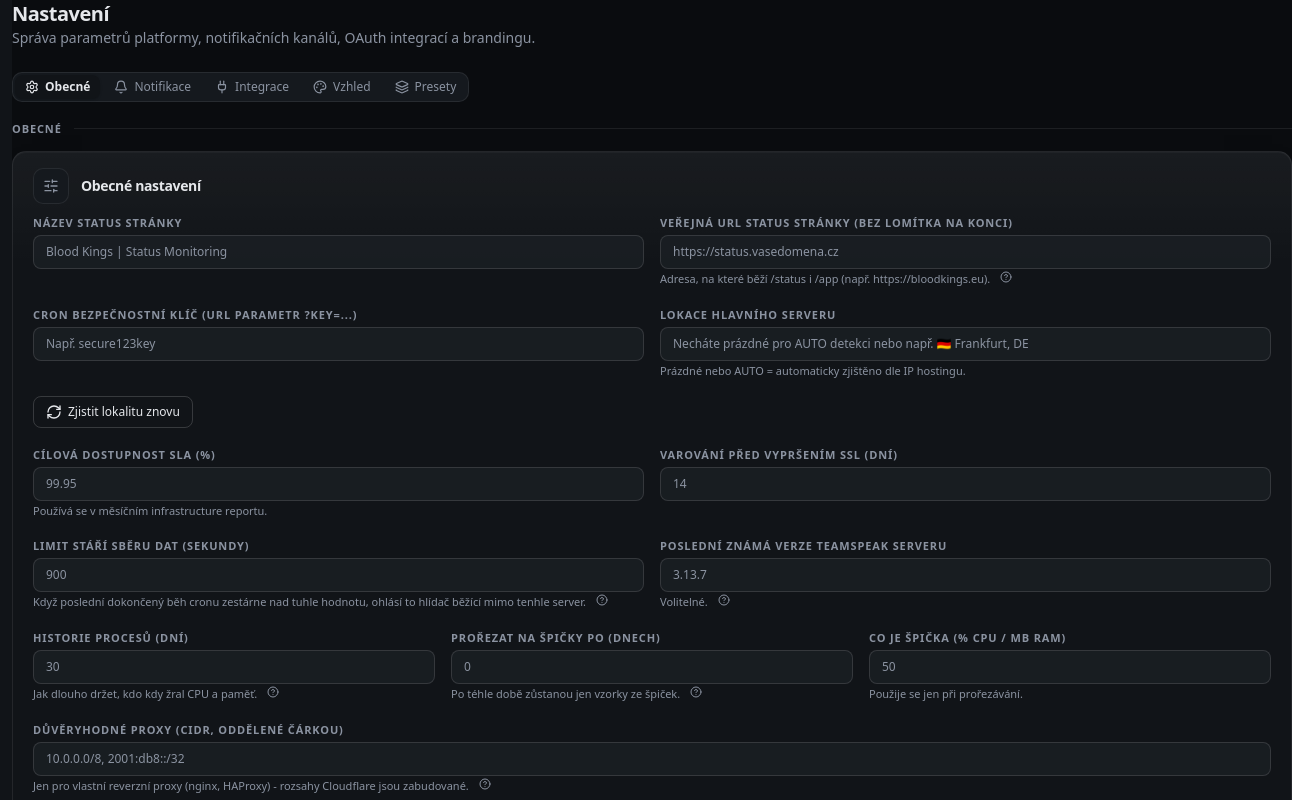
Test: Nastavení: upozornění z agentů (W1-D1) › nikdy neuložené přepínače ukazují výchozí stav serveru
Click the button "Notifikace": (153, 87) x1=104 y1=75 x2=201 y2=99
(page scrolled)
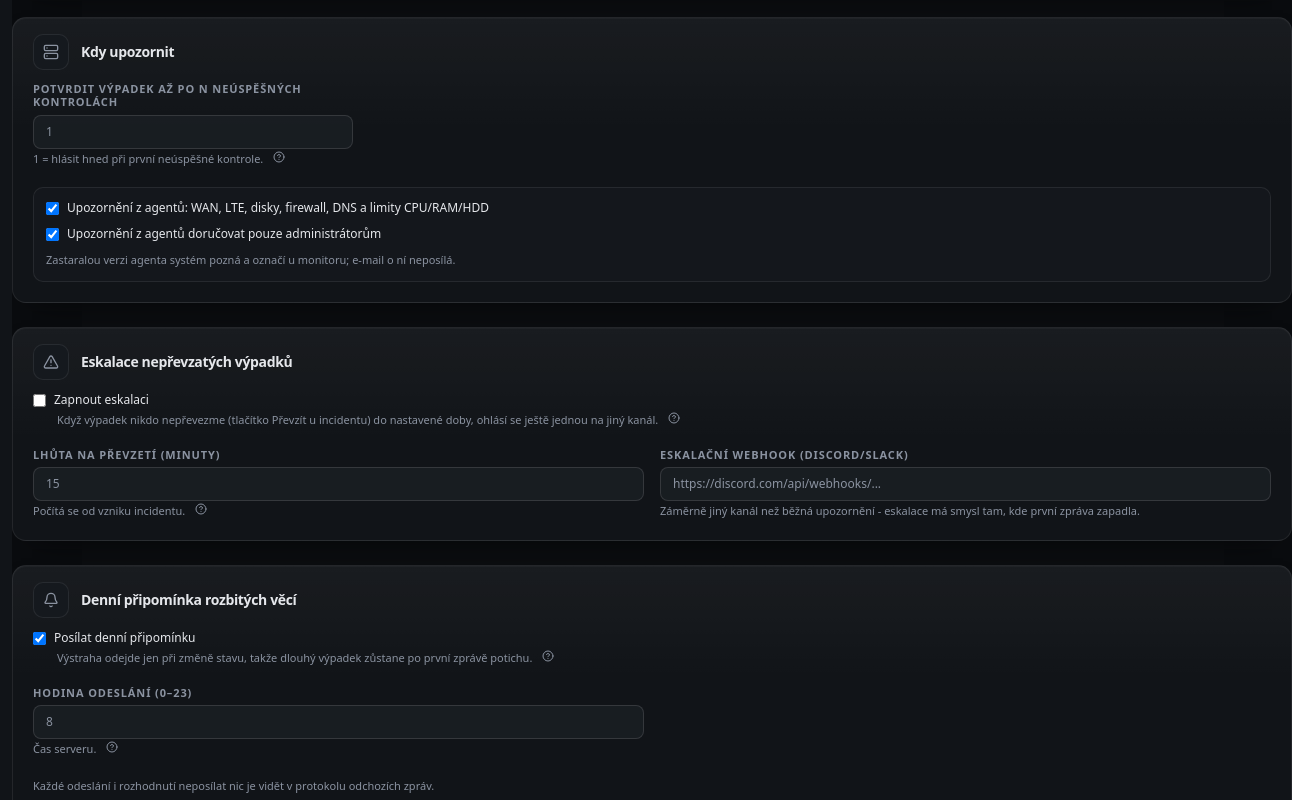
Result: the checkbox labelled "Upozornění z agentů: WAN, LTE" is checked at x1=46 y1=202 x2=59 y2=215
Result: the checkbox labelled "Upozornění z agentů doručovat pouze administrátorům" is checked at x1=46 y1=228 x2=59 y2=241
Result: the checkbox labelled "Posílat denní připomínku" is checked at x1=33 y1=632 x2=46 y2=645
